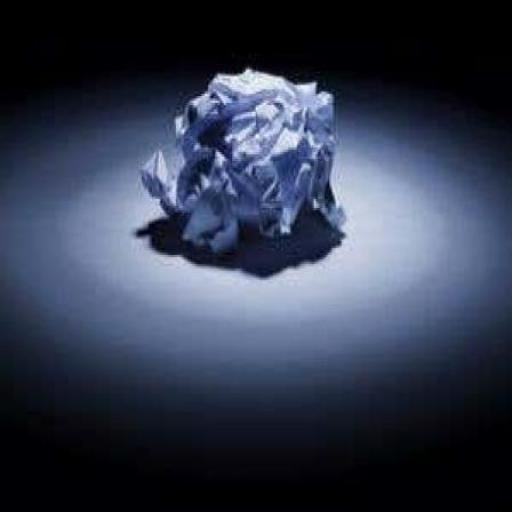paper: (84, 35, 388, 348)
